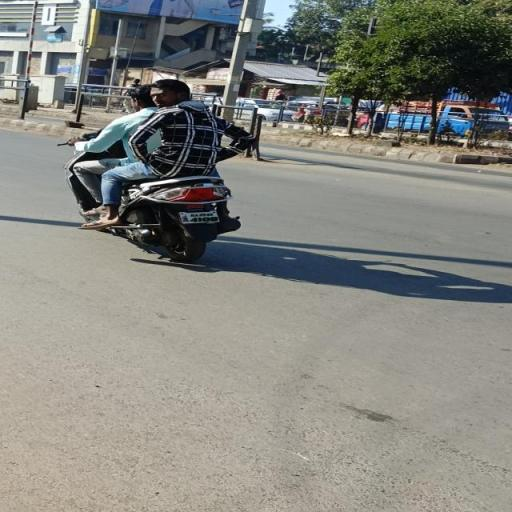bike: (54, 76, 267, 262)
numberplate: (180, 208, 221, 226)
withouthelmet: (154, 80, 188, 104), (127, 84, 153, 110)
